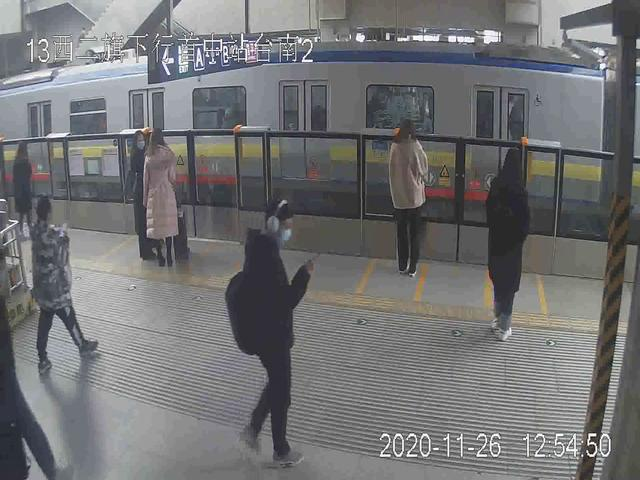person: (226, 201, 316, 473), (26, 198, 100, 372), (486, 146, 530, 342), (382, 117, 427, 276), (149, 127, 197, 265), (123, 132, 160, 256), (9, 139, 38, 242)
